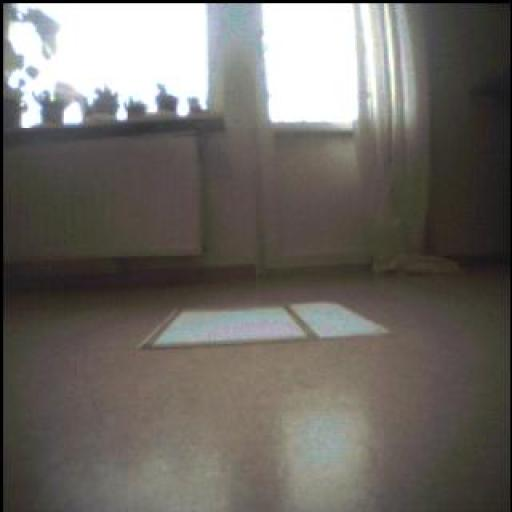Pad: (145, 296, 388, 351)
